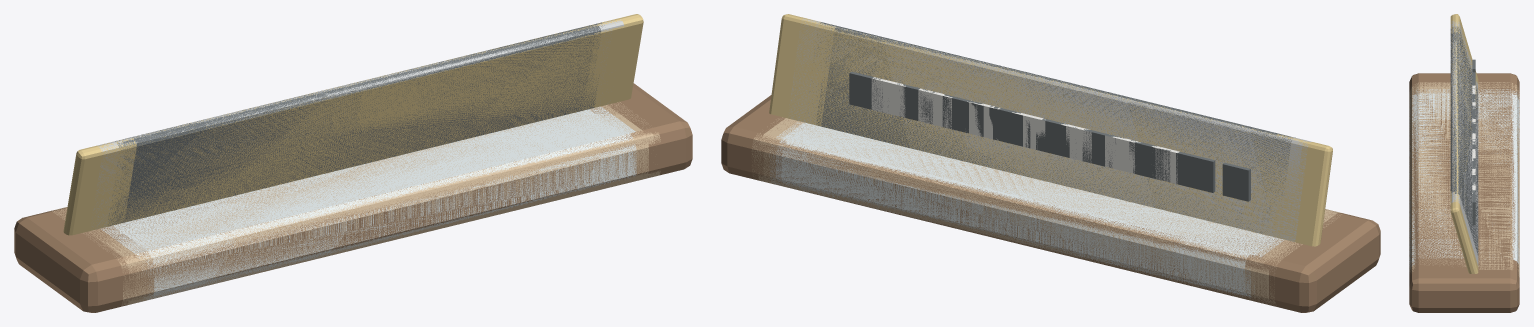
The model's file is Gear06.fbx.
3 renders of one model, left to right at view 1: azimuth 30°, elevation 25°; view 2: azimuth 150°, elevation 25°; view 3: azimuth 270°, elevation 25°, orthographic. The views are drawn at different scales.
Parts seen in each view (by area): view 1: Gear06_V10_Brass, Gear06_V1_Acrylic, Gear06_V4_Oak, Gear06_V10_Walnut, Gear06_V2_Acrylic, Gear06_V8_Brass, Gear06_V1_Charcoal, Gear06_V3_Acrylic, Gear06_V4_Charcoal, Gear06_V7_Walnut, Gear06_V5_Oak, Gear06_V9_Walnut (+6 smaller); view 2: Gear06_V10_Brass, Gear06_V7_BrushedSteel, Gear06_V2_Acrylic, Gear06_V1_Acrylic, Gear06_V10_Walnut, Gear06_V5_Oak, Gear06_V6_BrushedSteel, Gear06_V5_BrushedSteel, Gear06_V4_Oak, Gear06_V1_Charcoal, Gear06_V10_Charcoal, Gear06_V8_Walnut (+16 smaller); view 3: Gear06_V10_Walnut, Gear06_V9_Walnut, Gear06_V4_Oak, Gear06_V6_Oak, Gear06_V1_Acrylic, Gear06_V2_Charcoal, Gear06_V8_Walnut, Gear06_V5_Oak, Gear06_V7_BrushedSteel, Gear06_V10_Brass, Gear06_V3_Charcoal, Gear06_V5_BrushedSteel (+12 smaller).
Boxes of the visible parts, x1,y1,x2,y2 form: Gear06_V10_Brass: (63, 14, 643, 235); Gear06_V1_Acrylic: (114, 109, 625, 297); Gear06_V4_Oak: (61, 105, 648, 303); Gear06_V10_Walnut: (14, 83, 692, 312); Gear06_V2_Acrylic: (111, 108, 636, 299); Gear06_V8_Brass: (84, 17, 628, 232); Gear06_V1_Charcoal: (124, 26, 585, 221); Gear06_V3_Acrylic: (101, 107, 636, 301); Gear06_V4_Charcoal: (108, 22, 604, 225); Gear06_V7_Walnut: (42, 101, 667, 307); Gear06_V5_Oak: (54, 104, 654, 305); Gear06_V9_Walnut: (30, 92, 680, 310); Gear06_V10_Brass: (769, 14, 1332, 246); Gear06_V7_BrushedSteel: (789, 18, 1311, 241); Gear06_V2_Acrylic: (776, 122, 1277, 298); Gear06_V1_Acrylic: (782, 124, 1270, 295); Gear06_V10_Walnut: (721, 95, 1380, 312); Gear06_V5_Oak: (757, 118, 1340, 300); Gear06_V6_BrushedSteel: (793, 20, 1306, 219); Gear06_V5_BrushedSteel: (802, 21, 1297, 214); Gear06_V4_Oak: (763, 120, 1331, 282); Gear06_V1_Charcoal: (821, 26, 1277, 227); Gear06_V10_Charcoal: (849, 71, 1246, 200); Gear06_V8_Walnut: (740, 130, 1348, 305); Gear06_V10_Walnut: (1409, 73, 1519, 312); Gear06_V9_Walnut: (1409, 75, 1519, 281); Gear06_V4_Oak: (1409, 86, 1519, 271); Gear06_V6_Oak: (1411, 82, 1519, 277); Gear06_V1_Acrylic: (1409, 93, 1519, 266); Gear06_V2_Charcoal: (1450, 30, 1478, 255); Gear06_V8_Walnut: (1409, 78, 1519, 281); Gear06_V5_Oak: (1409, 84, 1519, 274); Gear06_V7_BrushedSteel: (1450, 21, 1478, 265); Gear06_V10_Brass: (1450, 14, 1478, 273); Gear06_V3_Charcoal: (1450, 28, 1478, 210); Gear06_V5_BrushedSteel: (1450, 24, 1478, 259).
Size of the model in its own units: 31.85 by 6.94 by 7.
